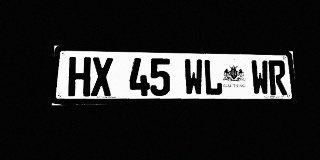4: (129, 58, 150, 96)
5: (150, 58, 170, 96)
H: (68, 57, 91, 97)
L: (203, 59, 223, 96)
R: (268, 60, 287, 95)
W: (184, 59, 204, 96), (250, 60, 270, 95)
X: (91, 57, 113, 96)
